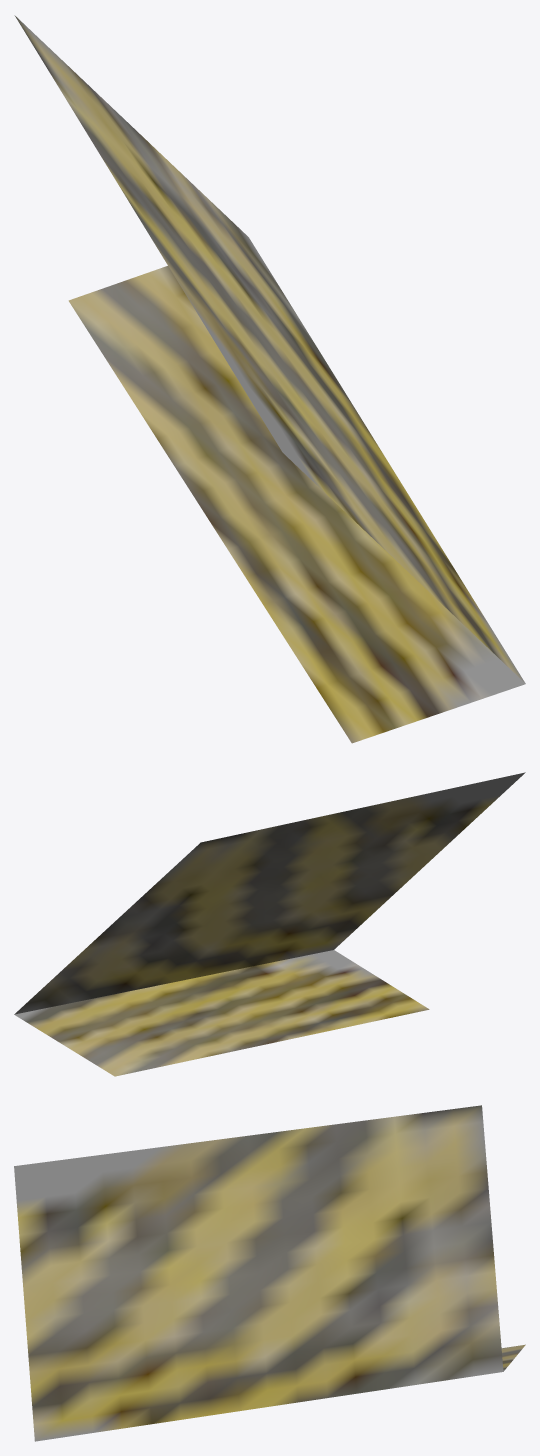
Rendered from guard-right.glb.
The picture shows the model from 3 angles, top to bottom: view 1: azimuth 30°, elevation 25°; view 2: azimuth 150°, elevation 25°; view 3: azimuth 270°, elevation 25°; orthographic projection. The views are drawn at different scales.
Visible parts, largest first — view 1: v-guard-right-panel-2, v-guard-right-panel-1; view 2: v-guard-right-panel-1, v-guard-right-panel-2; view 3: v-guard-right-panel-1.
Boxes of the visible parts, x1,y1,x2,y2 form: v-guard-right-panel-2: [68, 266, 525, 743]; v-guard-right-panel-1: [14, 15, 525, 683]; v-guard-right-panel-1: [14, 772, 525, 1014]; v-guard-right-panel-2: [14, 950, 429, 1076]; v-guard-right-panel-1: [14, 1105, 503, 1441].
Size of the model in its own units: 0.6771 by 0.8945 by 1.34.
